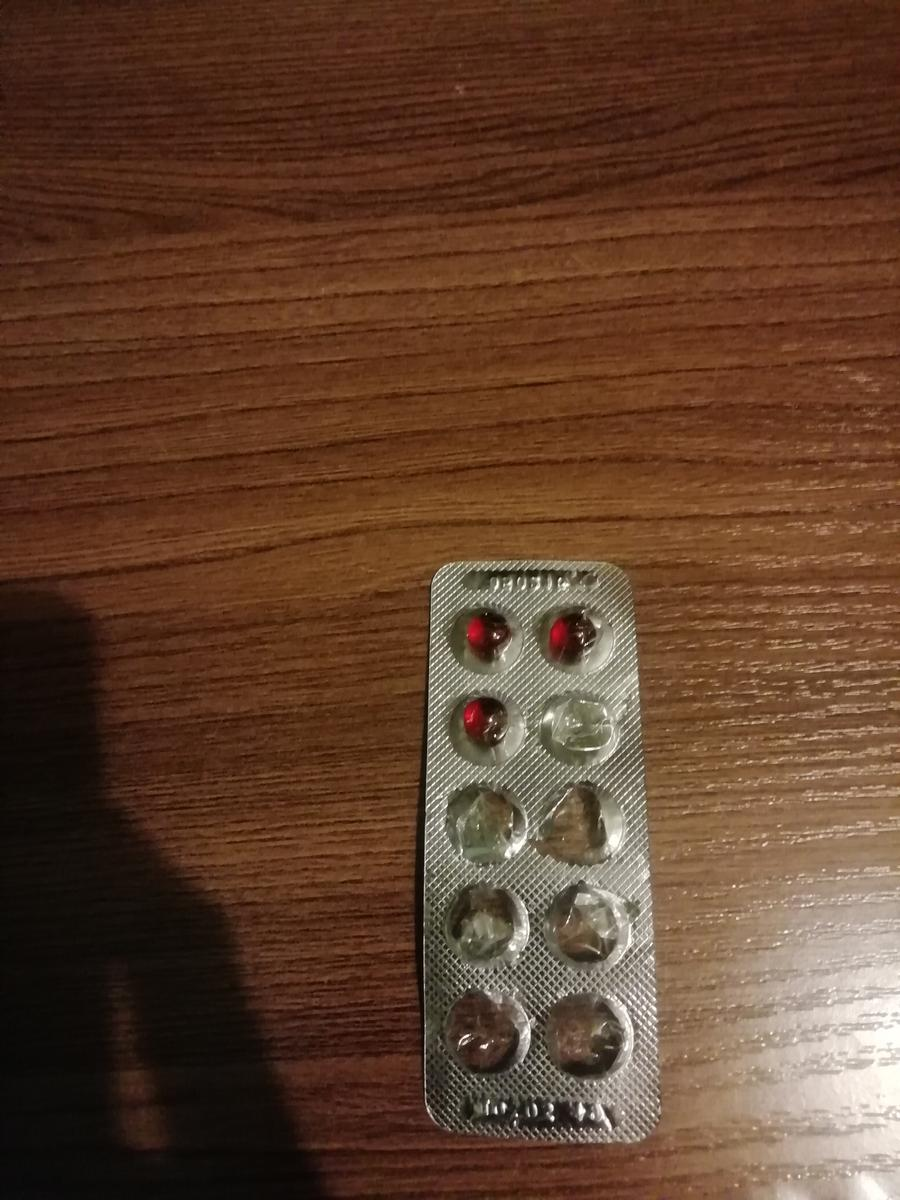tablet: (439, 601, 524, 678), (532, 600, 617, 677), (441, 683, 526, 760)
